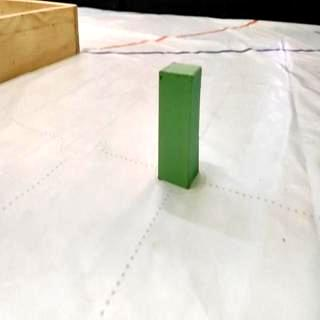greenbox: (156, 60, 204, 190)
